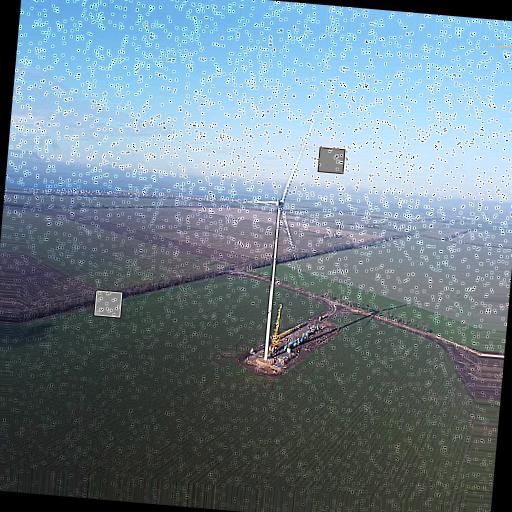wind turbine: (240, 123, 311, 361)
